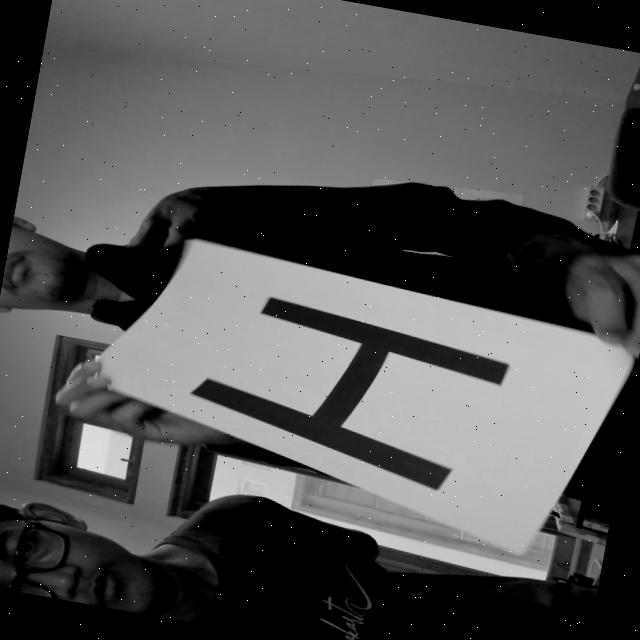h: (168, 277, 528, 503)
